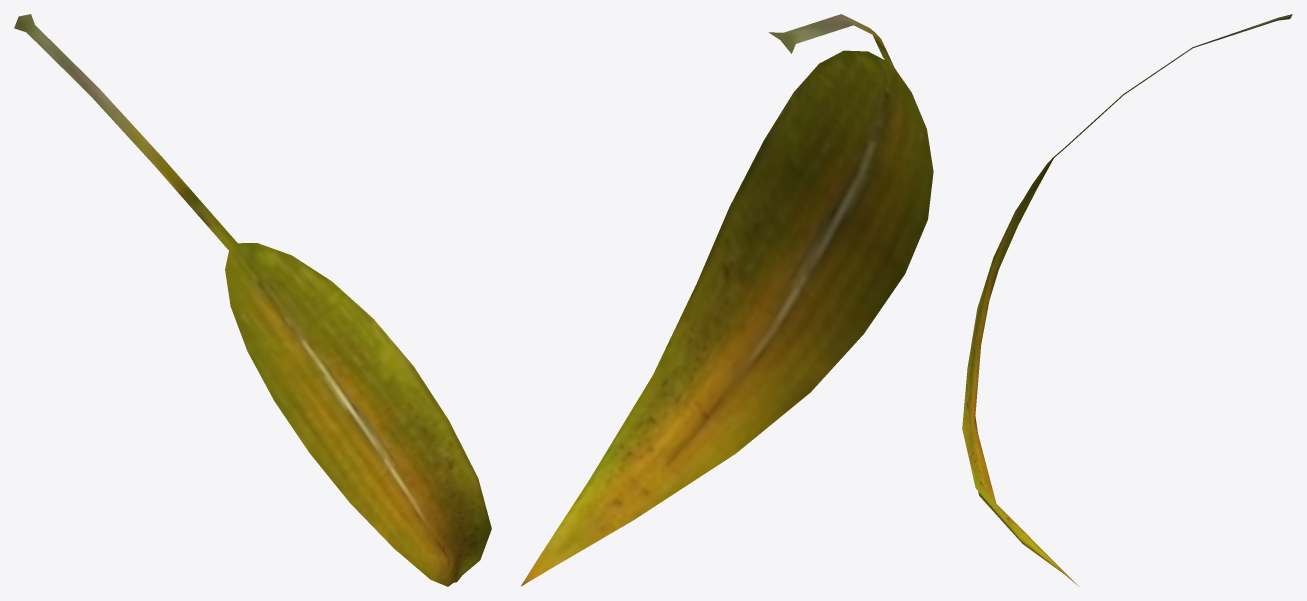
The picture shows the model from 3 angles, left to right: view 1: azimuth 30°, elevation 25°; view 2: azimuth 150°, elevation 25°; view 3: azimuth 270°, elevation 25°; orthographic projection. The views are drawn at different scales.
Visible parts, largest first — view 1: Circle.020; view 2: Circle.020; view 3: Circle.020.
Boxes of the visible parts, bbox=[...] form: Circle.020: bbox=[14, 14, 491, 586]; Circle.020: bbox=[521, 14, 933, 586]; Circle.020: bbox=[962, 14, 1292, 586].
Bounding box in the file's own units: 0.803 × 1.34 × 0.8881.
1 material, 1 textured.
